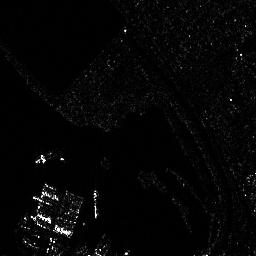ship: (91, 189, 101, 220)
